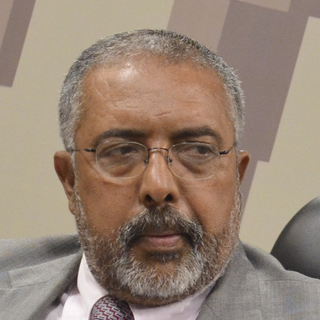eye: (181, 139, 226, 163), (97, 140, 144, 162)
